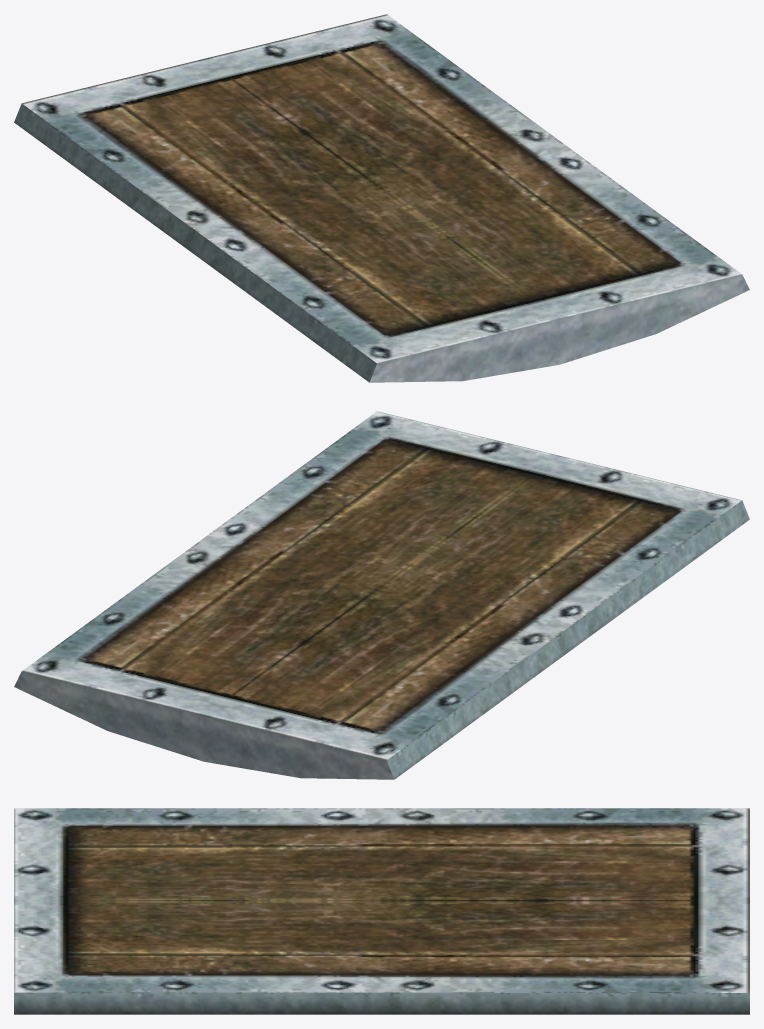
The picture shows the model from 3 angles, top to bottom: view 1: azimuth 30°, elevation 25°; view 2: azimuth 150°, elevation 25°; view 3: azimuth 270°, elevation 25°; orthographic projection. The views are drawn at different scales.
Parts seen in each view (by area): view 1: ms4; view 2: ms4; view 3: ms4.
Part boxes in pixels (x1,y1,x2,y2): ms4: [14, 14, 749, 382]; ms4: [14, 411, 749, 779]; ms4: [14, 808, 749, 1014].
Bounding box in the file's own units: 0.4735 × 0.0545 × 0.7664.
Materials: 1 (1 with a texture image).
